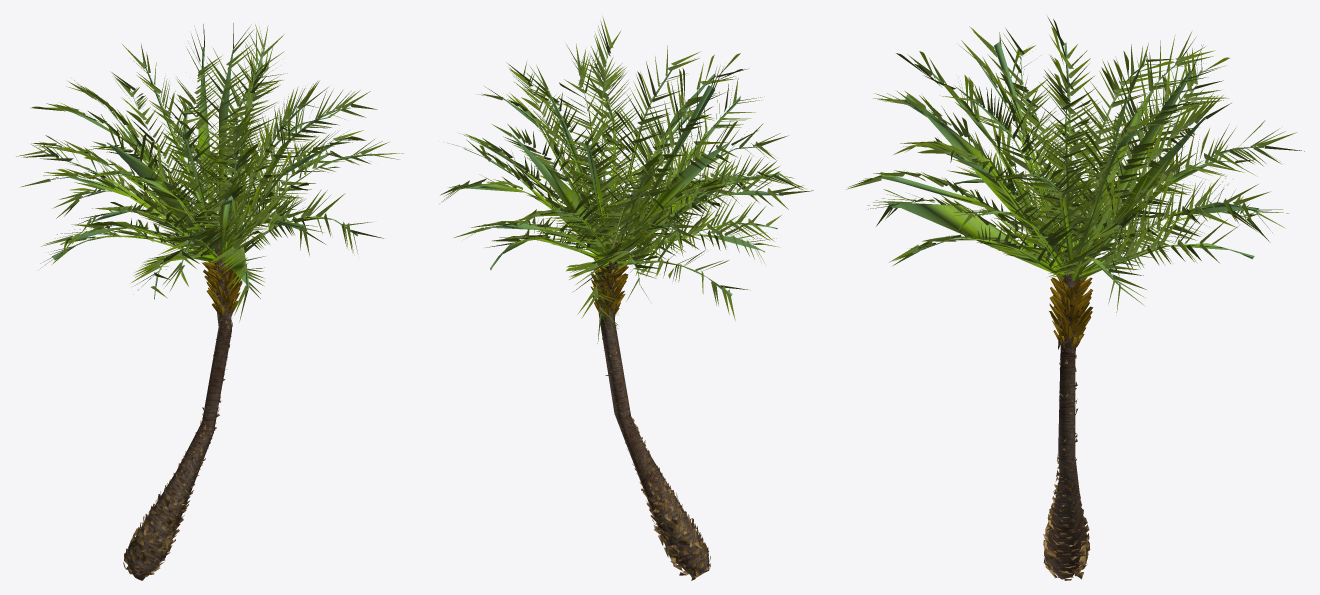
Rendered from phoenix_0_lod.glb.
3 renders of one model, left to right at view 1: azimuth 30°, elevation 25°; view 2: azimuth 150°, elevation 25°; view 3: azimuth 270°, elevation 25°, orthographic. The views are drawn at different scales.
Visible parts, largest first — view 1: Phoenix_Sylvestris_Small; view 2: Phoenix_Sylvestris_Small; view 3: Phoenix_Sylvestris_Small.
Part boxes in pixels (box(x1,y1,x2,y2)): Phoenix_Sylvestris_Small: box(16, 23, 403, 580); Phoenix_Sylvestris_Small: box(439, 16, 813, 580); Phoenix_Sylvestris_Small: box(846, 16, 1304, 580).
Size of the model in its own units: 5.61 by 8.46 by 5.89.
6 materials, 6 textured.
